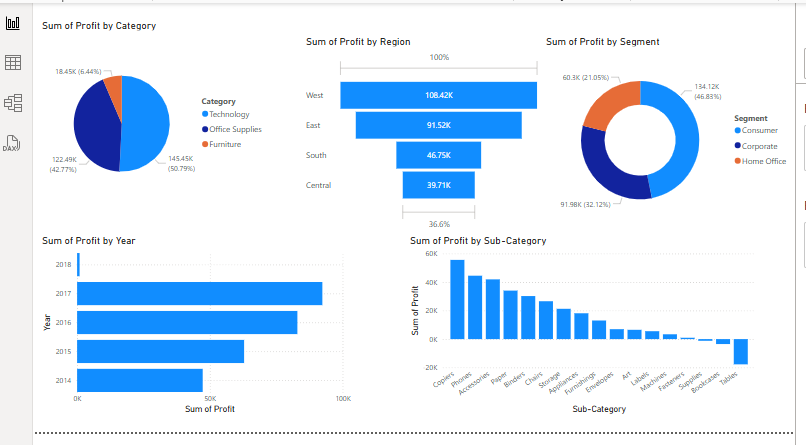

Layout of this report page (visuals, bound fields, positions):
{"tool":"powerbi","page":{"name":"Page 2","canvas":[1280,720],"ordinal":1},"visuals":[{"type":"pieChart","fields":{"Y":["Sum(Orders.Profit)"],"Category":["Product.Category"]},"box":[10.1,26.9,388,332.6],"z":0},{"type":"funnel","fields":{"Y":["Sum(Orders.Profit)"],"Category":["Location.Region"]},"box":[453.5,53.8,403.1,334.3],"z":1000},{"type":"donutChart","fields":{"Y":["Sum(Orders.Profit)"],"Category":["Customer.Segment"]},"box":[856.7,53.8,423.3,334.3],"z":2000},{"type":"barChart","fields":{"Y":["Sum(Orders.Profit)"],"Category":["Orders.Ship Date.Variation.Date Hierarchy.Year","Orders.Ship Date.Variation.Date Hierarchy.Quarter","Orders.Ship Date.Variation.Date Hierarchy.Month","Orders.Ship Date.Variation.Date Hierarchy.Day"]},"box":[10.1,388,529.1,307.4],"z":3000},{"type":"columnChart","fields":{"Y":["Sum(Orders.Profit)"],"Category":["Product.Sub-Category"]},"box":[628.2,388,589.6,307.4],"z":4000}]}

Visuals, with their boxes on the page's 1280x720 design canvas (x1, y1, x2, y2). These are canvas units, not pixel positions in the 806x445 screenshot, which may show the page scaled, cropped or inside an application window:
pieChart - Sum(Orders.Profit) x Product.Category: left=10, top=27, right=398, bottom=360
funnel - Sum(Orders.Profit) x Location.Region: left=454, top=54, right=857, bottom=388
donutChart - Sum(Orders.Profit) x Customer.Segment: left=857, top=54, right=1280, bottom=388
barChart - Sum(Orders.Profit) x Orders.Ship Date.Variation.Date Hierarchy.Year: left=10, top=388, right=539, bottom=695
columnChart - Sum(Orders.Profit) x Product.Sub-Category: left=628, top=388, right=1218, bottom=695
